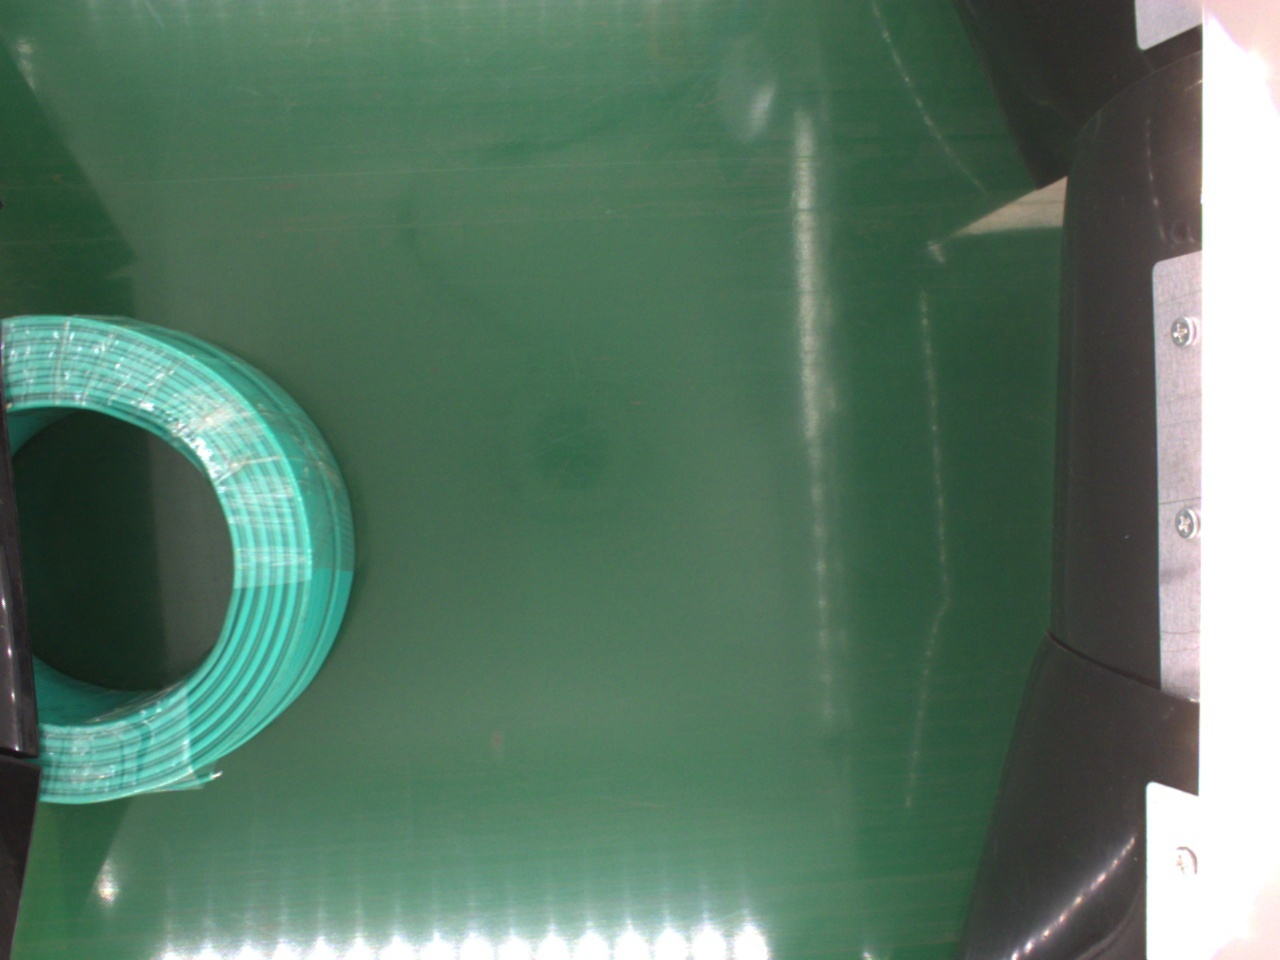green: (5, 313, 359, 809)
